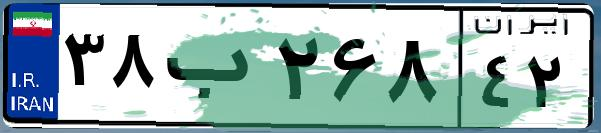2: (270, 28, 330, 110), (525, 38, 570, 115)
3: (57, 26, 110, 100)
4: (475, 38, 525, 113)
6: (330, 28, 385, 110)
8: (385, 28, 445, 110), (110, 28, 158, 98)
ب: (158, 20, 270, 120)
